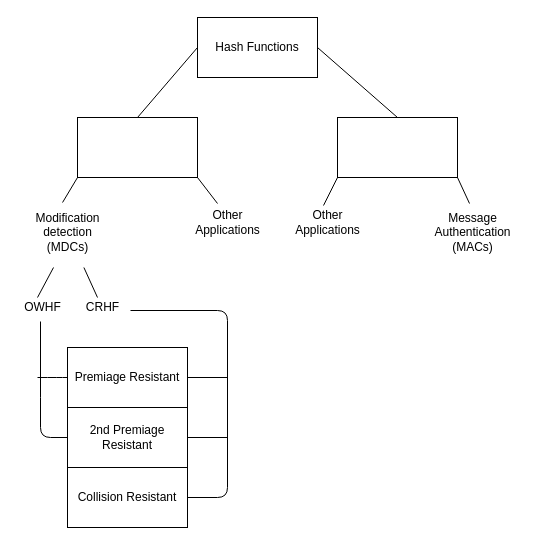
This 534x545 diagram has some shape labels left out. The shapes that lost their labels are listed below. From the top down, each one's centre as x and y in pixels, then its label:
At point (137, 147): "Unkeyed".
At point (397, 147): "Keyed".
